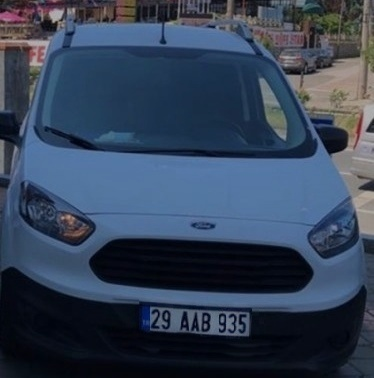plaka: (149, 303, 250, 338)
